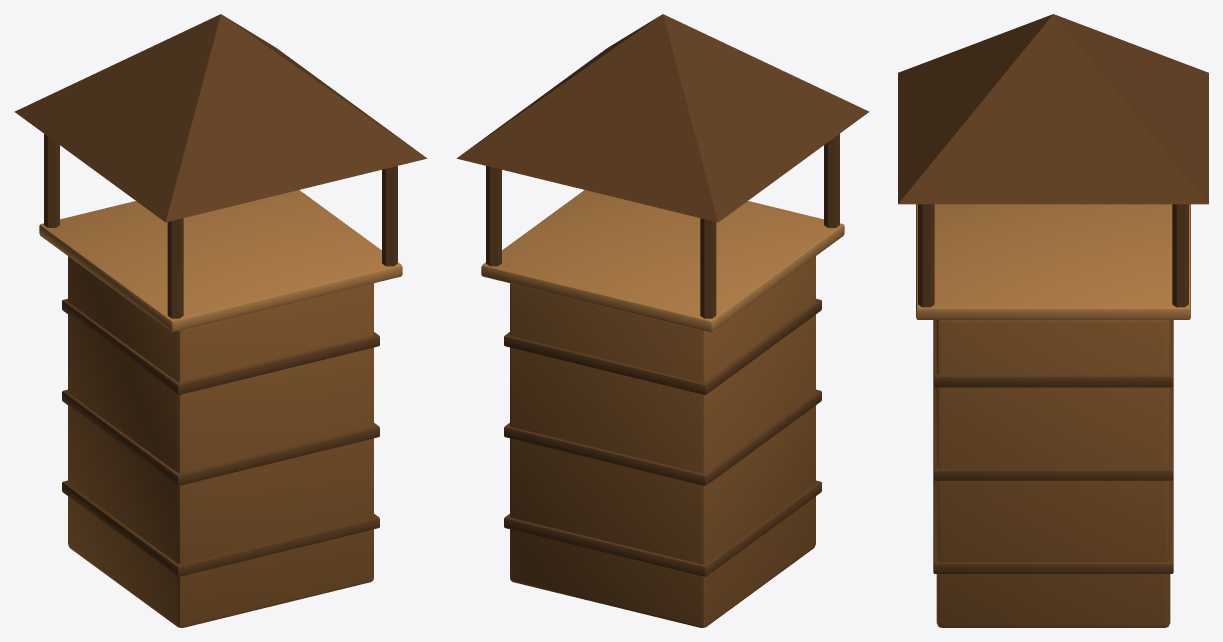
Rendered from naroznik_2.glb.
The picture shows the model from 3 angles, left to right: view 1: azimuth 30°, elevation 25°; view 2: azimuth 150°, elevation 25°; view 3: azimuth 270°, elevation 25°; orthographic projection. The views are drawn at different scales.
Parts seen in each view (by area): view 1: naroznik_2; view 2: naroznik_2; view 3: naroznik_2.
Part boxes in pixels (left/top/right/bottom): naroznik_2: left=14, top=14, right=427, bottom=627; naroznik_2: left=456, top=14, right=869, bottom=627; naroznik_2: left=898, top=14, right=1208, bottom=627.
Size of the model in its own units: 4.53 by 9.1 by 4.53.
